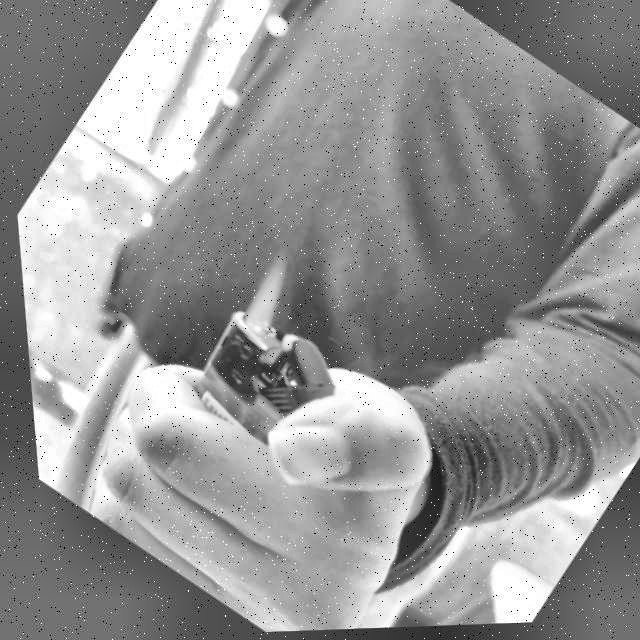Fire: (223, 248, 311, 343)
